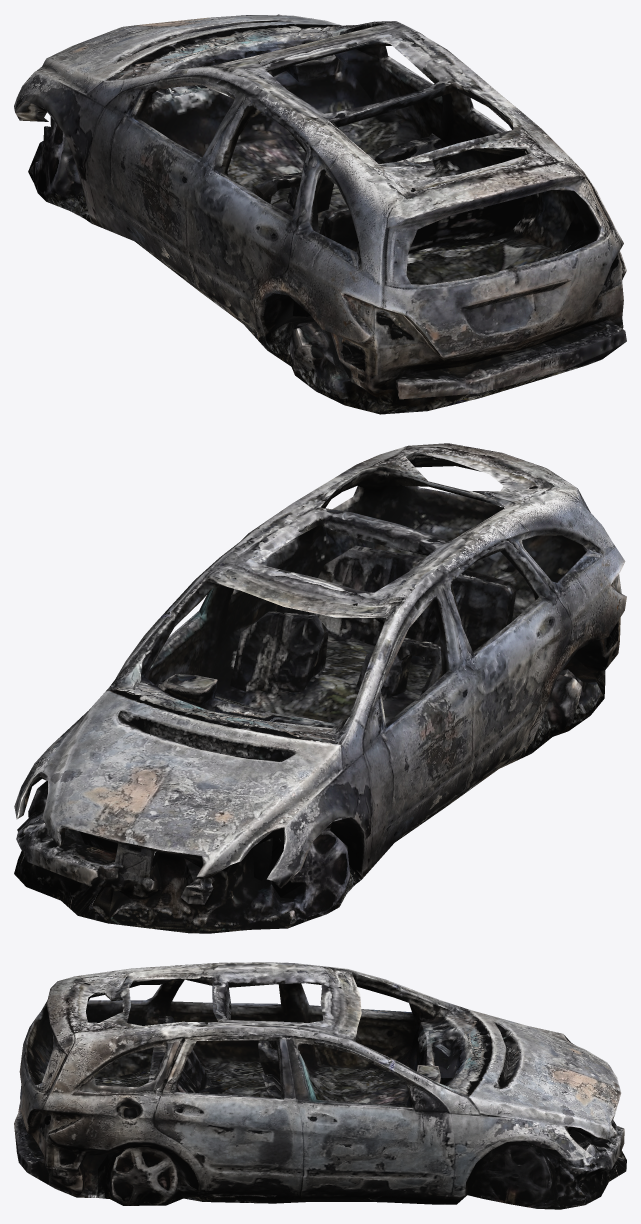
The picture shows the model from 3 angles, top to bottom: view 1: azimuth 30°, elevation 25°; view 2: azimuth 150°, elevation 25°; view 3: azimuth 270°, elevation 25°; orthographic projection. The views are drawn at different scales.
Visible parts, largest first — view 1: default001_Material #25_0; view 2: default001_Material #25_0; view 3: default001_Material #25_0.
Boxes of the visible parts, box(x1,y1,x2,y2) form: default001_Material #25_0: box(14, 14, 626, 414); default001_Material #25_0: box(14, 443, 626, 933); default001_Material #25_0: box(14, 962, 626, 1209).
Bounding box in the file's own units: 1.85 × 1.28 × 4.4.
Materials: 1 (1 with a texture image).
